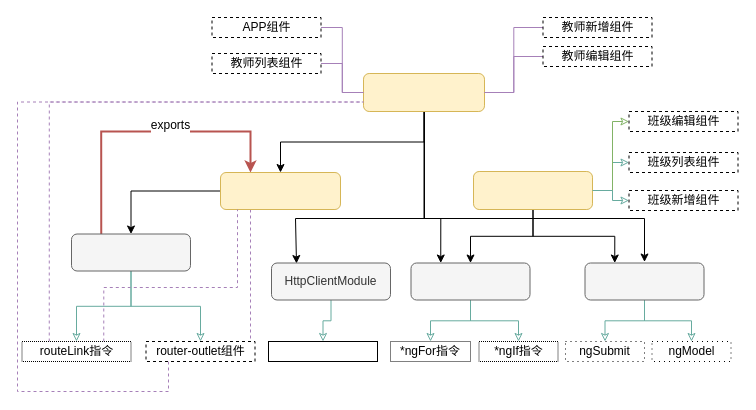
Some shapes in this 756 by 410 pixel diagram are drawn without their labels. Each missing label, with the centre of its shape:
"AppModule" belongs at [423,92].
"AppRoutingModule" belongs at [280,191].
"BrowserModule" belongs at [470,281].
"FormsModule" belongs at [644,281].
"HttpClient服务" belongs at [323,351].
"KlassModule" belongs at [532,190].
"RouterModule" belongs at [130,252].
